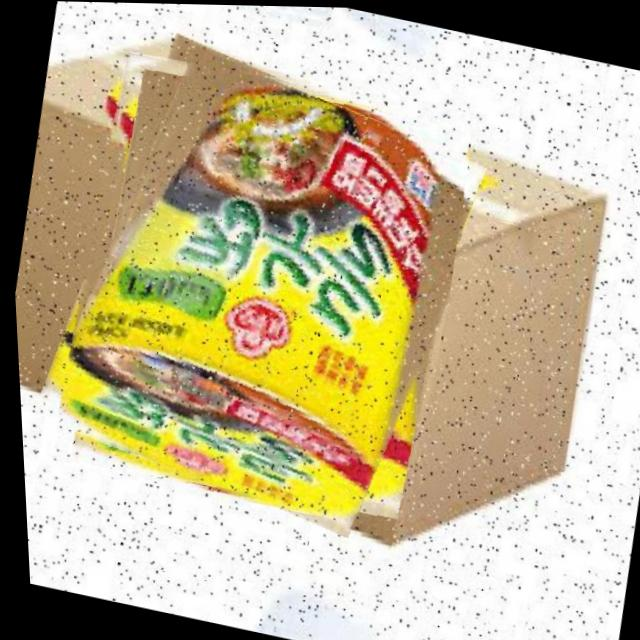Miscellaneous: (26, 31, 491, 536)
